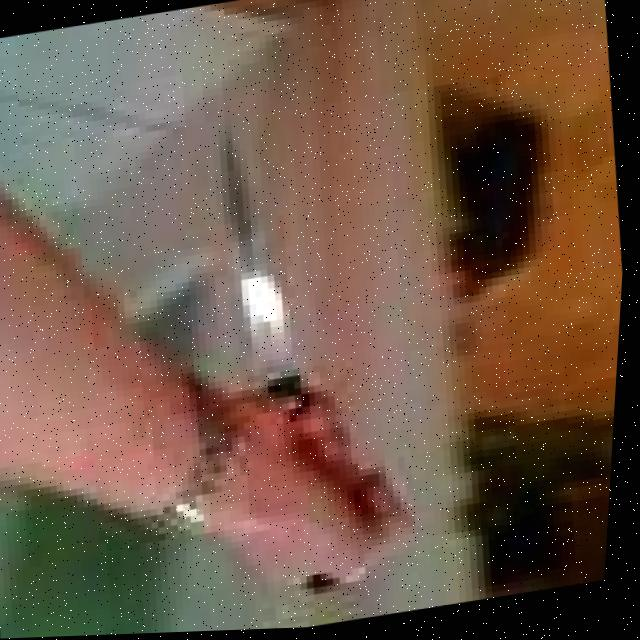knife: (198, 104, 324, 404)
